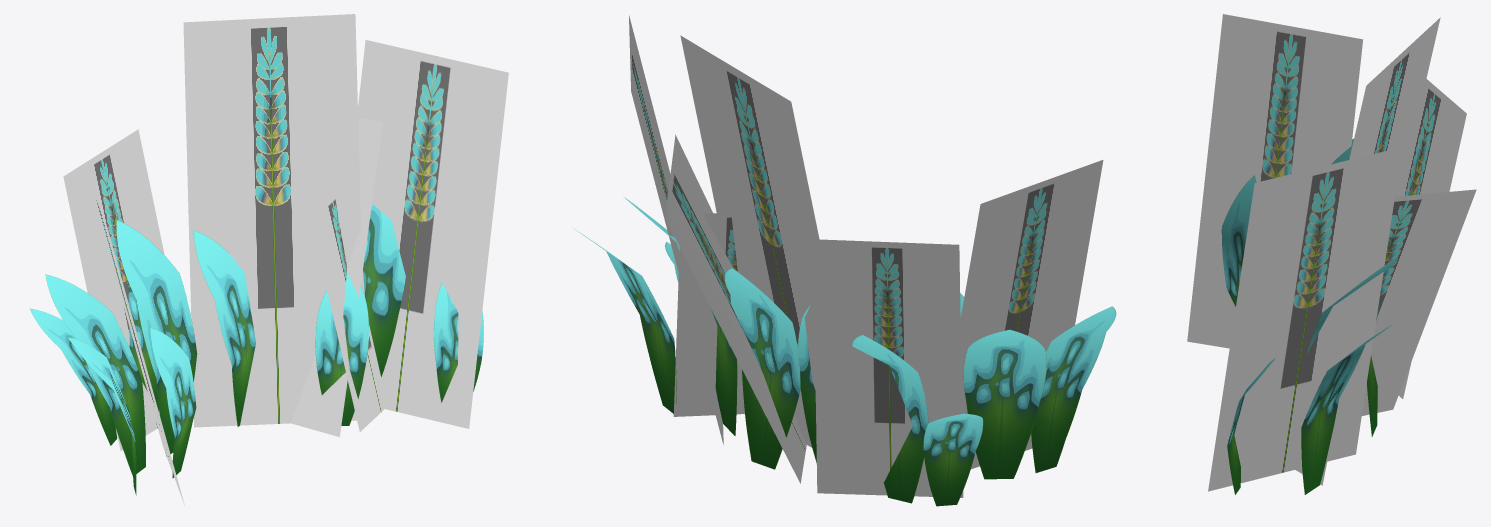
Rendered from Grass3.FBX.
3 views of the same model, side by side, from view 1: azimuth 30°, elevation 25°; view 2: azimuth 150°, elevation 25°; view 3: azimuth 270°, elevation 25° (orthographic). The views are drawn at different scales.
Parts seen in each view (by area): view 1: Plane840, Plane851; view 2: Plane840, Plane851; view 3: Plane840, Plane851.
Boxes of the visible parts, x1,y1,x2,y2 form: Plane840: (63,14,508,505); Plane851: (29,204,483,495); Plane840: (629,15,1103,497); Plane851: (573,197,1116,506); Plane840: (1187,14,1476,491); Plane851: (1221,139,1398,494).
Size of the model in its own units: 56.84 by 40.79 by 27.69.
Materials: 2 (2 with a texture image).
